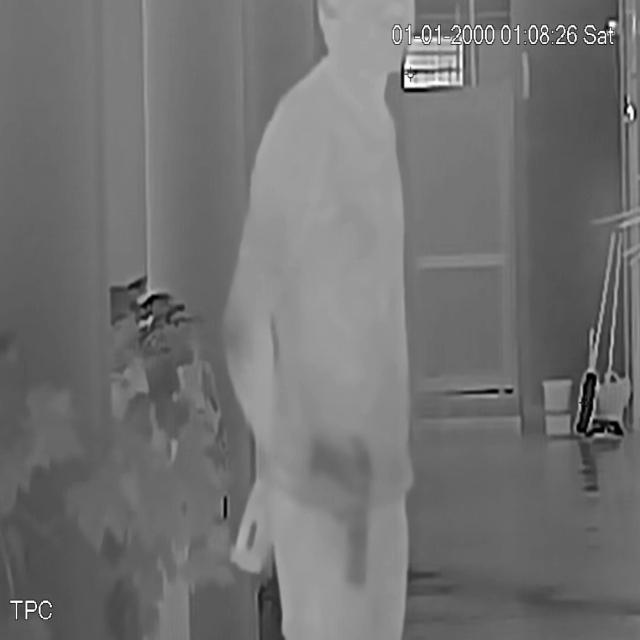Weapon: (296, 418, 400, 593)
